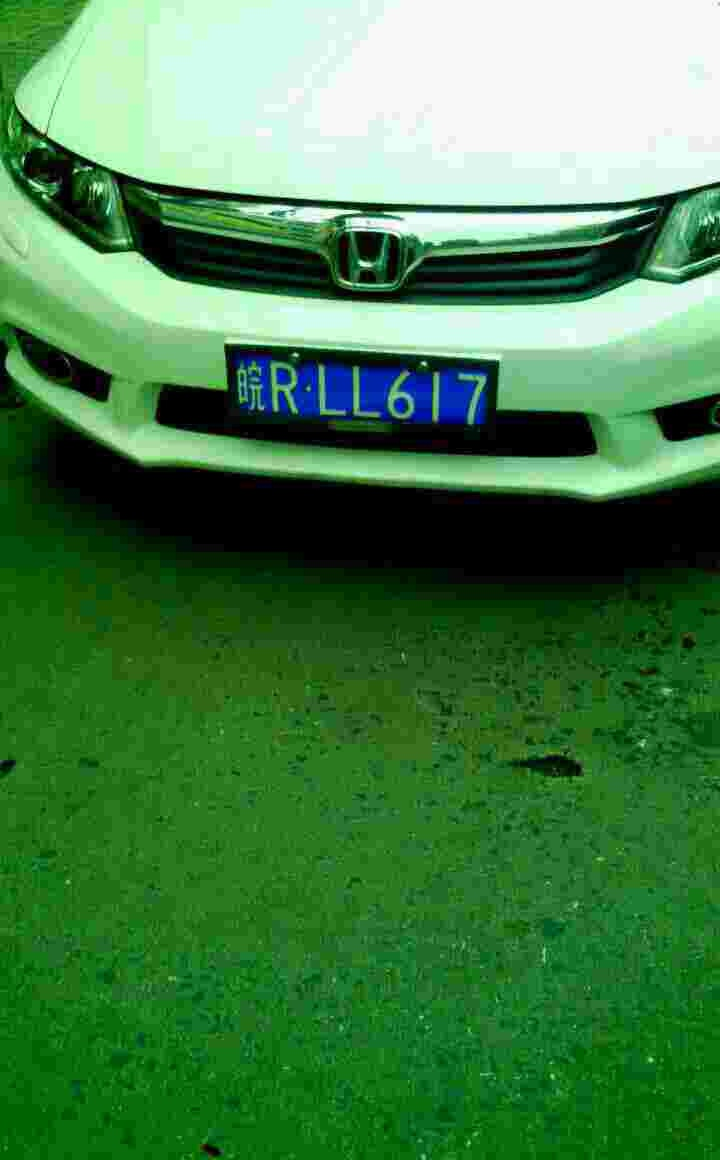plate: (229, 342, 500, 443)
